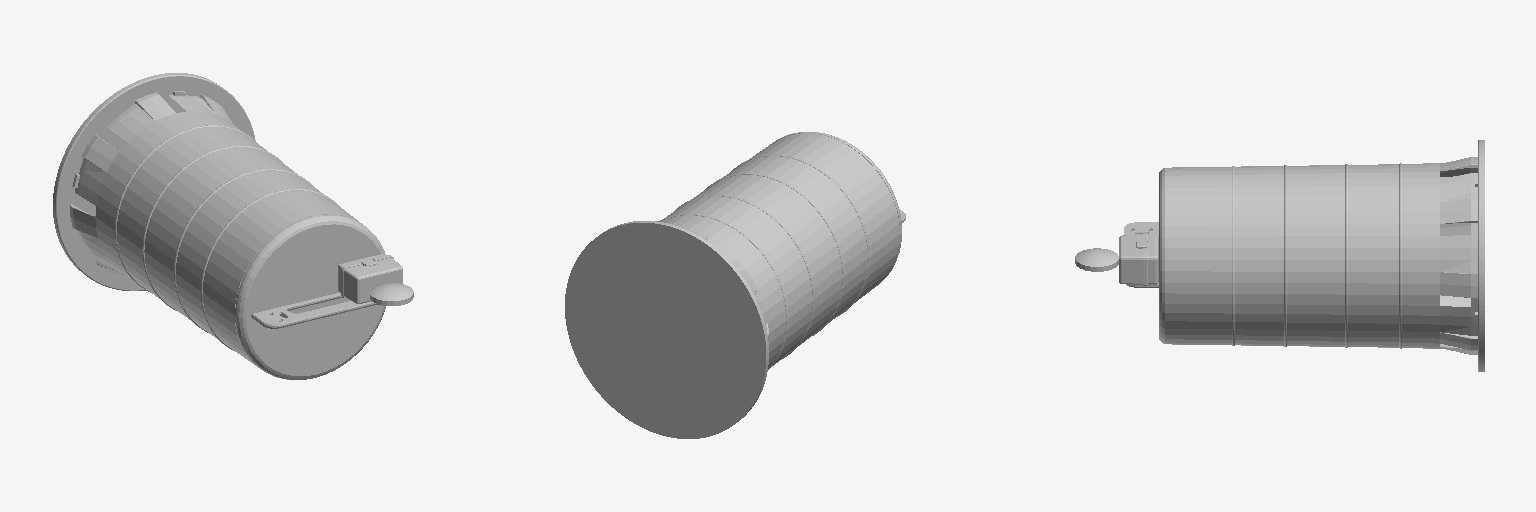
The model's file is safetyco2.obj.
The picture shows the model from 3 angles: view 1: azimuth 30°, elevation 25°; view 2: azimuth 150°, elevation 25°; view 3: azimuth 270°, elevation 25°; orthographic projection.
Parts seen in each view (by area): view 1: safety_co2; view 2: safety_co2; view 3: safety_co2.
Part boxes in pixels (left/top/right/bottom): safety_co2: left=53, top=73, right=413, bottom=379; safety_co2: left=565, top=132, right=905, bottom=438; safety_co2: left=1075, top=140, right=1484, bottom=371.
Size of the model in its own units: 34.99 by 34.99 by 61.54.